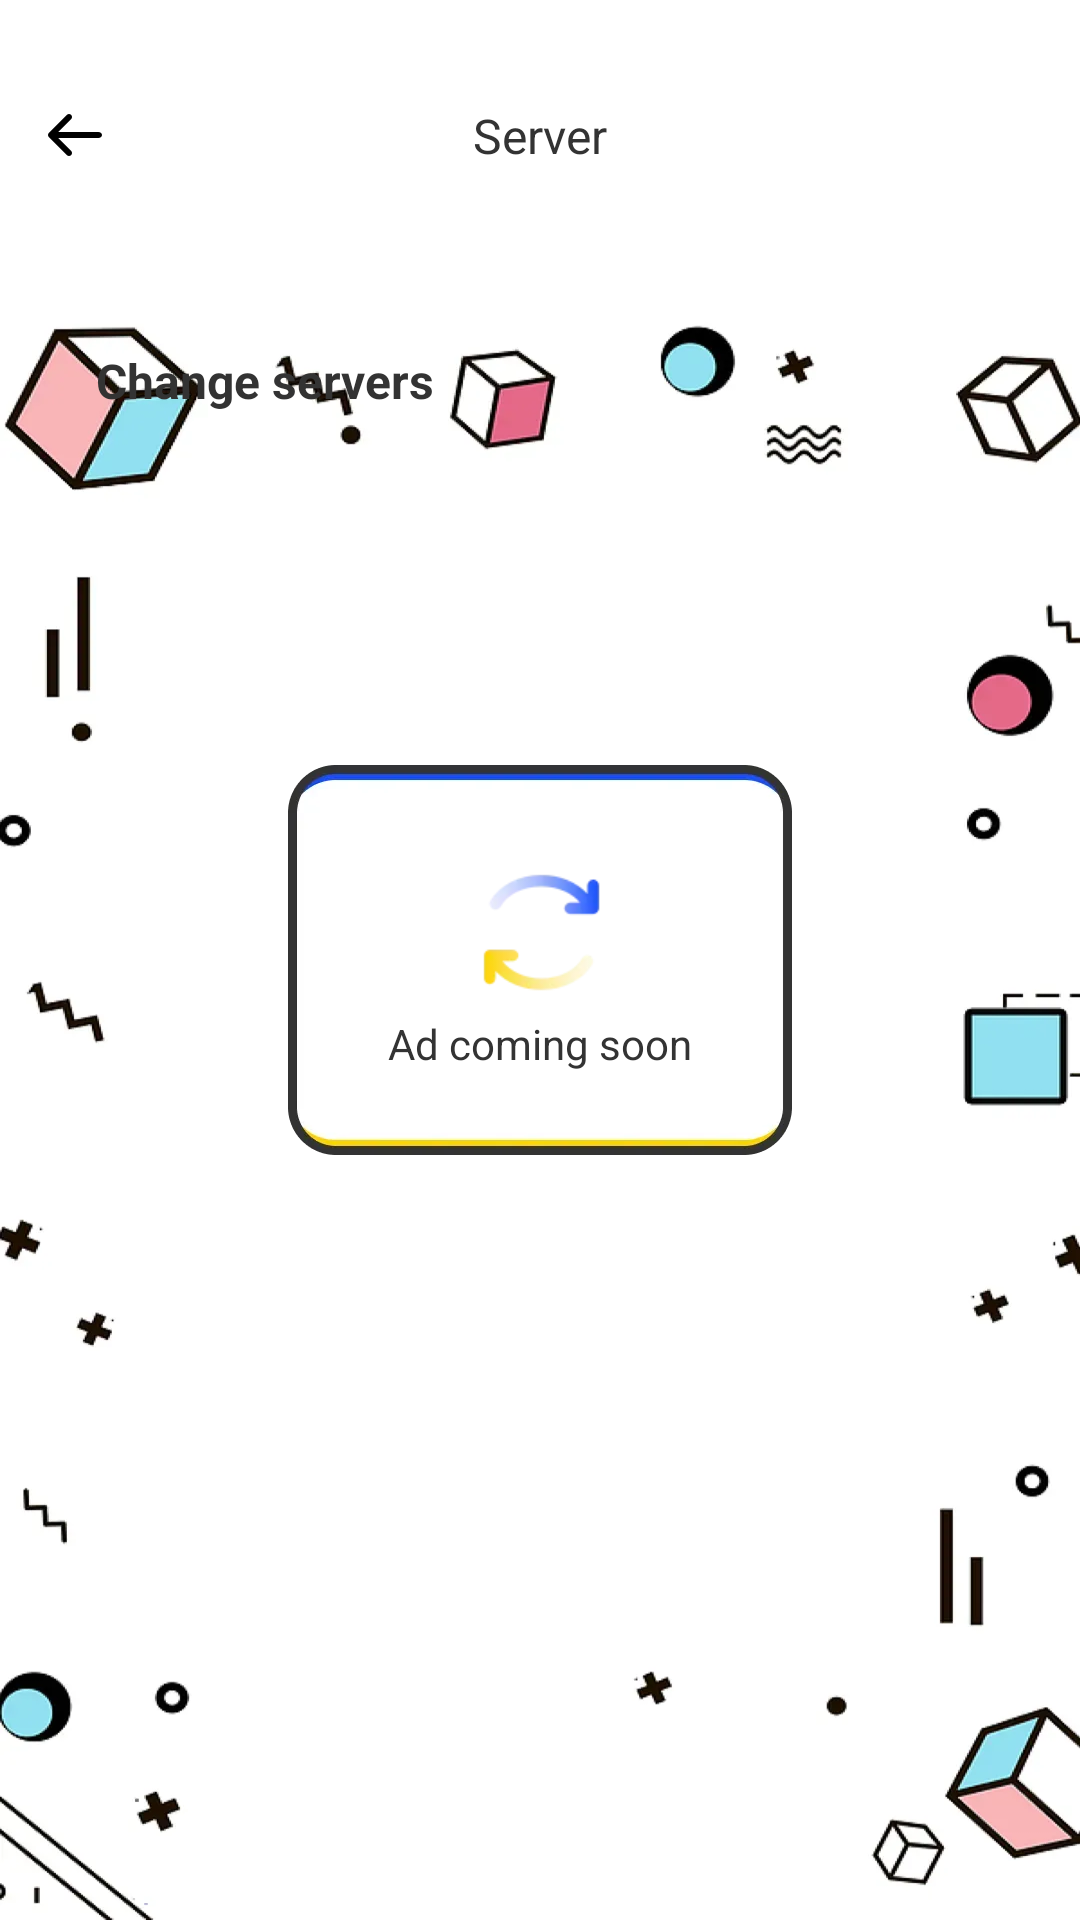

Where to tap for icons on this 1080x1920 app screen, as (x=x, y=y):
back: (x=75, y=135)
connecting: (x=541, y=932)
